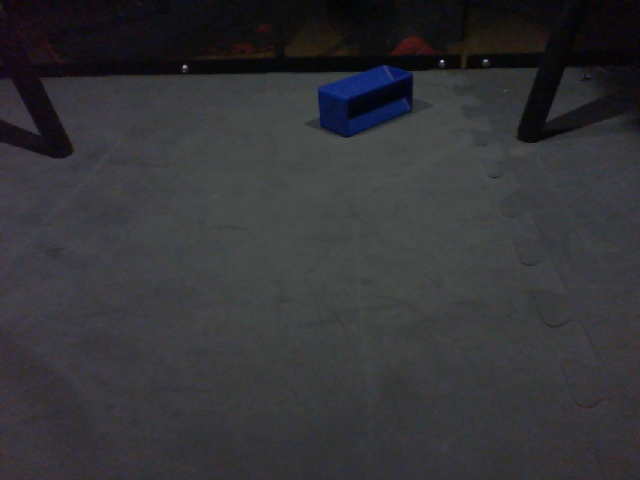BlueSample: (317, 62, 416, 139)
